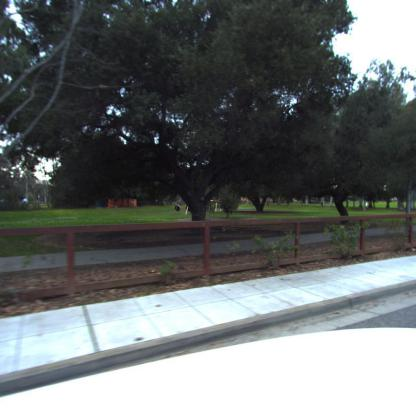person: (174, 202, 180, 212)
